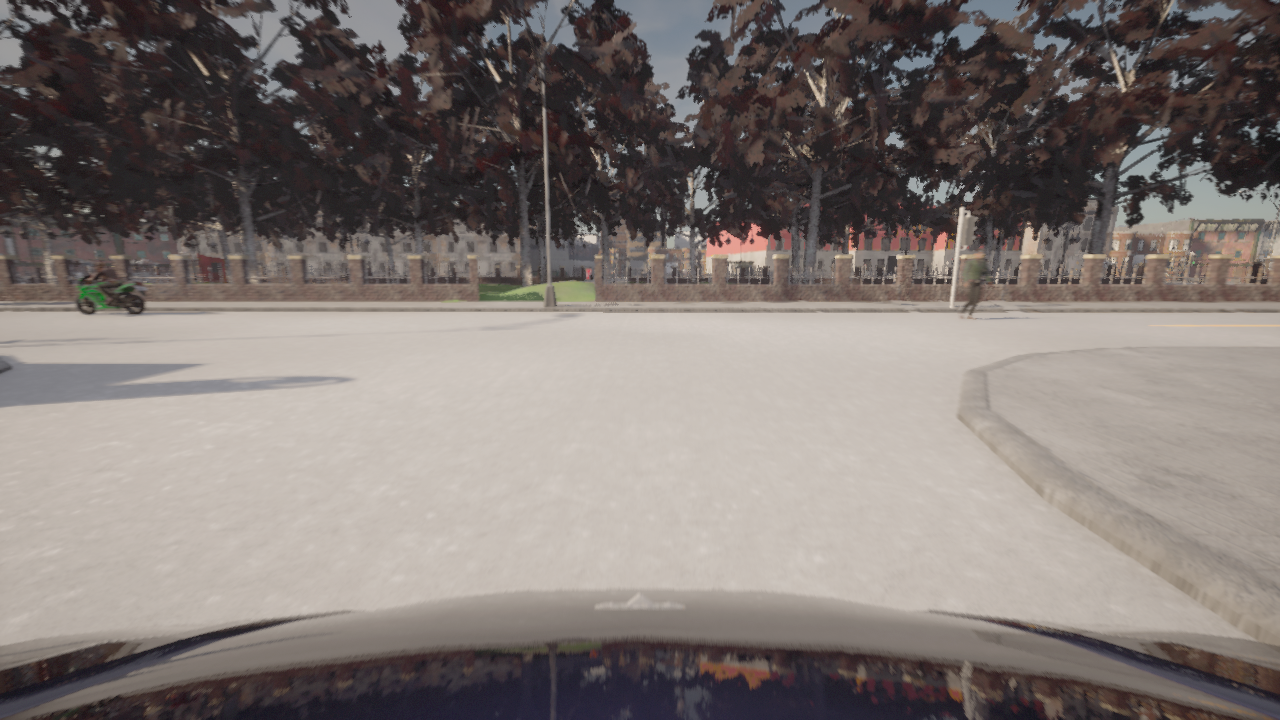cyclist: (0, 588, 1279, 719), (69, 275, 146, 314)
pedestrian: (959, 248, 992, 320), (1199, 264, 1208, 283)
